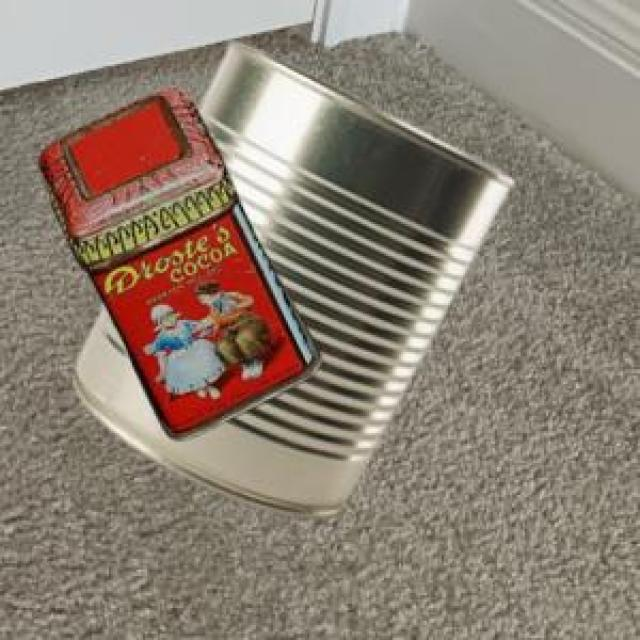logam: (71, 39, 511, 515), (37, 86, 319, 436)
